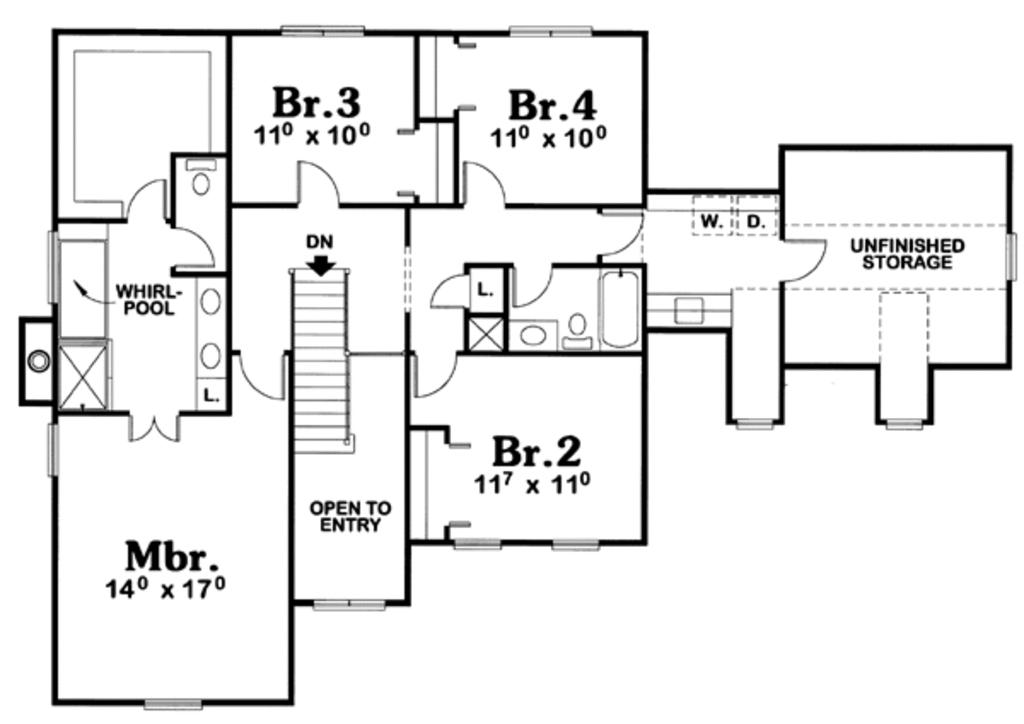door: (236, 349, 289, 402), (411, 346, 462, 399), (459, 159, 509, 213), (779, 232, 828, 287), (167, 223, 217, 276), (294, 158, 342, 212), (596, 208, 646, 259), (120, 175, 173, 222), (506, 263, 556, 309), (123, 409, 181, 443), (431, 272, 470, 314)
large_sink: (557, 305, 597, 352), (182, 155, 220, 200)
small_sink: (192, 275, 226, 386), (507, 319, 561, 358)
stairs: (289, 233, 362, 459)
tub: (59, 237, 112, 339), (597, 264, 645, 360)
window: (503, 20, 599, 44), (44, 226, 68, 311), (276, 20, 367, 41), (309, 599, 394, 620), (731, 414, 782, 438), (451, 532, 504, 554), (139, 697, 207, 713), (48, 417, 64, 485), (548, 540, 603, 558), (881, 417, 929, 437), (1003, 229, 1019, 289)
